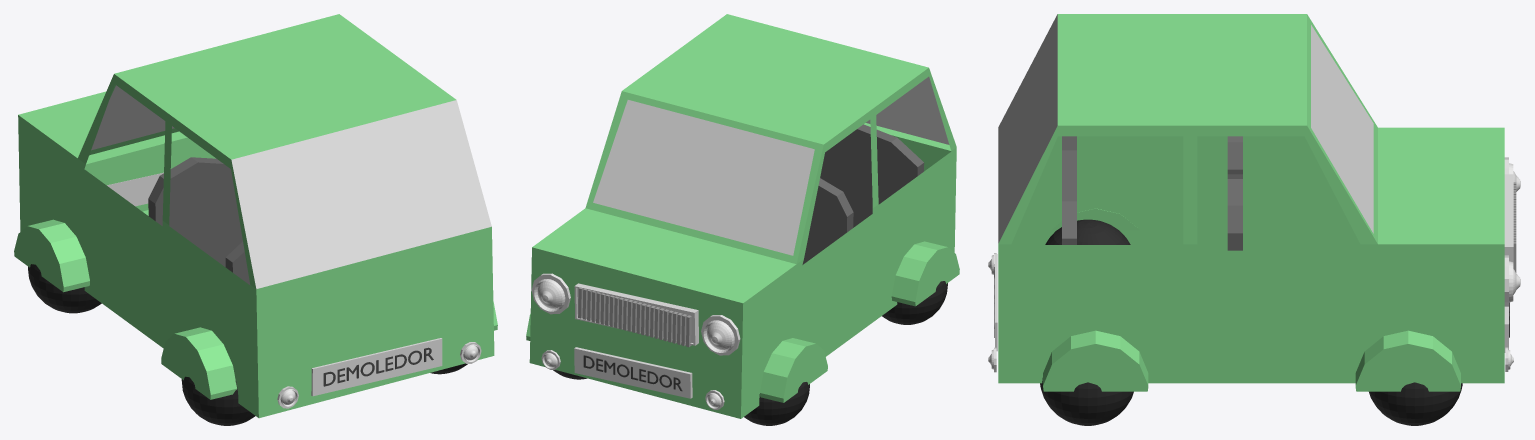
Rendered from Player1.fbx.
3 renders of one model, left to right at view 1: azimuth 30°, elevation 25°; view 2: azimuth 150°, elevation 25°; view 3: azimuth 270°, elevation 25°, orthographic. The views are drawn at different scales.
Parts seen in each view (by area): view 1: Cube, Cube.005, Cylinder.003, Cylinder.006, Cube.004, br, fr, Cube.001, Text.001, Cube.009; view 2: Cube, Cube.009, Cube.003, Cylinder.006, Cylinder.003, Cube.001, Cube.005, fr, br, Cube.002, Sphere, Sphere.001 (+3 smaller); view 3: Cube, Cylinder.009, Cylinder.012, bl, fl, Cube.009, br, Cube.007, Cube.002, Cylinder.006, Cube.005.
Part boxes in pixels (x1,y1,x2,y2): Cube: (18, 14, 494, 418); Cube.005: (148, 157, 242, 266); Cylinder.003: (14, 219, 89, 292); Cylinder.006: (161, 327, 236, 399); Cube.004: (311, 338, 442, 396); br: (181, 376, 255, 425); fr: (28, 264, 101, 313); Cube.001: (107, 172, 163, 206); Text.001: (323, 347, 433, 386); Cube.009: (225, 241, 250, 284); Cube: (529, 14, 956, 418); Cube.009: (820, 124, 924, 227); Cube.003: (578, 287, 691, 347); Cylinder.006: (891, 241, 959, 306); Cylinder.003: (760, 338, 827, 402); Cube.001: (574, 347, 692, 398); Cube.005: (802, 178, 853, 264); fr: (744, 382, 809, 425); br: (882, 281, 947, 324); Cube.002: (574, 283, 698, 345); Sphere: (534, 279, 565, 311); Sphere.001: (703, 320, 734, 352); Cube: (998, 14, 1504, 383); Cylinder.009: (1043, 330, 1148, 391); Cylinder.012: (1355, 330, 1460, 391); bl: (1040, 378, 1133, 425); fl: (1369, 382, 1462, 425); Cube.009: (1062, 136, 1076, 244); br: (1045, 219, 1130, 244); Cube.007: (1227, 174, 1242, 250); Cube.002: (1504, 174, 1513, 268); Cylinder.006: (1052, 208, 1139, 230); Cube.005: (1227, 136, 1242, 174).
Size of the model in its own units: 374 by 343 by 557.
